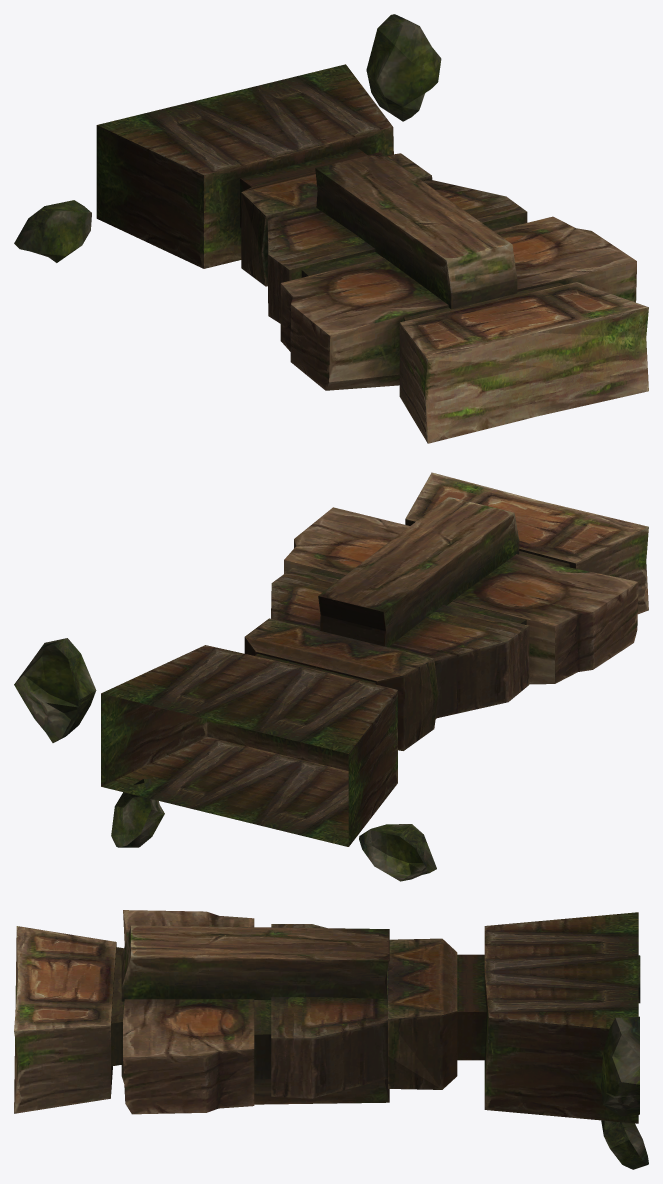
The model's file is huodong_fuben_238_n_statuary01.obj.
3 renders of one model, top to bottom at view 1: azimuth 30°, elevation 25°; view 2: azimuth 150°, elevation 25°; view 3: azimuth 270°, elevation 25°, orthographic.
Visible parts, largest first — view 1: huodong_fuben_238_n_statuary01; view 2: huodong_fuben_238_n_statuary01; view 3: huodong_fuben_238_n_statuary01.
Part boxes in pixels (x1=…): huodong_fuben_238_n_statuary01: x1=14, y1=14, x2=648, y2=443; huodong_fuben_238_n_statuary01: x1=14, y1=472, x2=648, y2=881; huodong_fuben_238_n_statuary01: x1=14, y1=910, x2=648, y2=1169.
Size of the model in its own units: 206 by 88.78 by 275.
2 materials, 2 textured.
